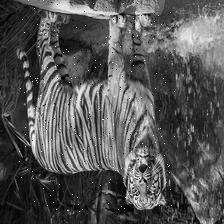tiger: (18, 0, 175, 213)
